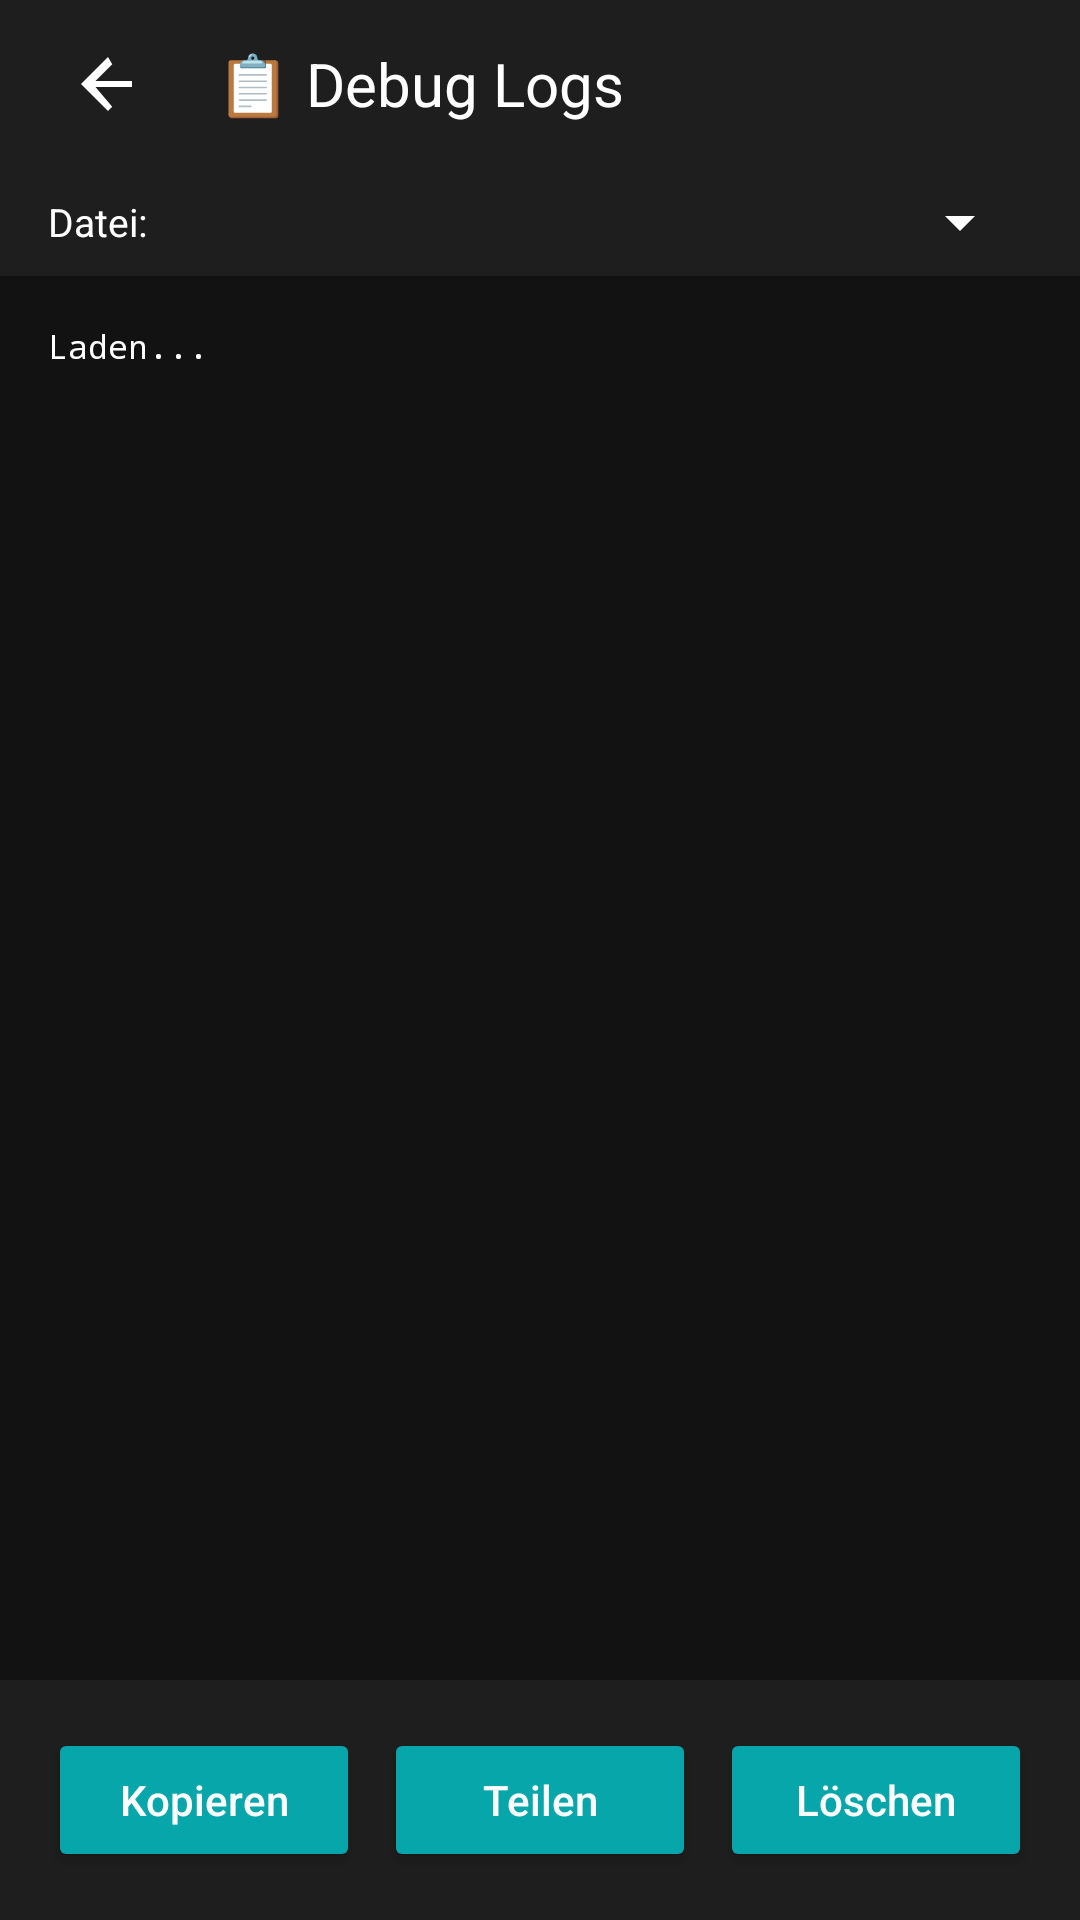

Point at icon controls on the screen. Image size 1080 x 1920, points as [x,y].
Zurück: [106,84]
